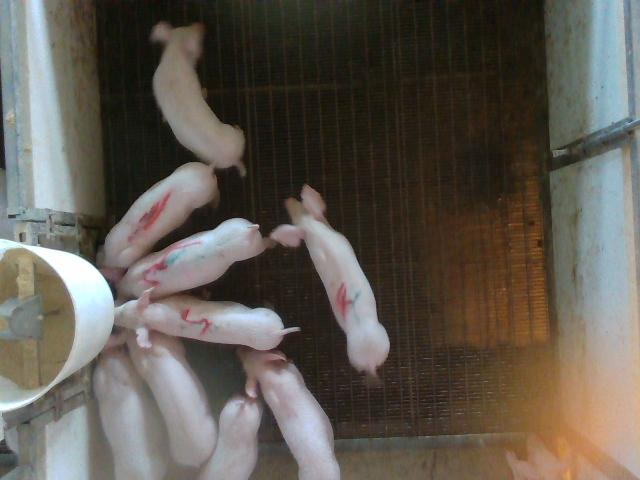pig-1: (96, 162, 219, 268)
pig-3: (101, 219, 274, 299)
pig-4: (270, 185, 390, 377)
pig-5: (115, 288, 300, 349)
